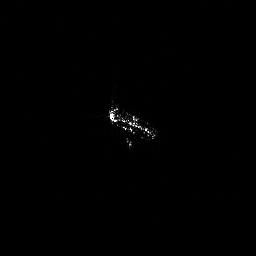ship: (103, 99, 162, 150)
